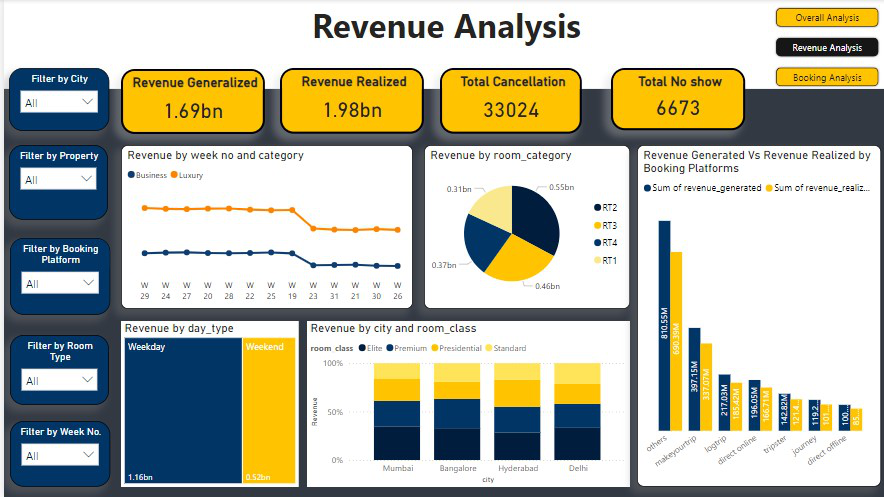

This screenshot's page, from the dashboard's own definition file:
{"tool":"powerbi","page":{"name":"Revenue Analysis","canvas":[1280,720],"ordinal":1},"visuals":[{"type":"textbox","box":[0,0,1279.5,130.1],"z":0},{"type":"card","title":"Revenue Generalized","fields":{"Values":["BaseMeasures.Revenue"]},"box":[169.2,101.2,208.2,94],"z":1000},{"type":"card","title":"Total Cancellation","fields":{"Values":["BaseMeasures.Total Cancelled Booking"]},"box":[630.4,99.8,205.3,95.4],"z":2000},{"type":"slicer","title":"Filter by Booking Platform","fields":{"Values":["fact_bookings.booking_platform"]},"box":[8.6,345.8,144.6,110.7],"z":2000,"group":"g1"},{"type":"card","title":"Total No show","fields":{"Values":["BaseMeasures.Total no show bookings"]},"box":[877.6,99.8,193.7,89.6],"z":3000},{"type":"group","id":"g1","title":"Group 1","box":[7.2,99.8,146,605.8],"z":4000},{"type":"slicer","title":"Filter by Room Type","fields":{"Values":["dim_rooms.room_class"]},"box":[8.6,485.7,143.1,101.5],"z":4000,"group":"g1"},{"type":"pieChart","fields":{"Category":["fact_bookings.room_category"],"Y":["BaseMeasures.Revenue"]},"box":[607.2,211.1,297.8,237.1],"z":5000},{"type":"hundredPercentStackedColumnChart","fields":{"Category":["dim_hotels.city"],"Y":["BaseMeasures.Revenue"],"Series":["dim_rooms.room_class"]},"box":[438.1,465.5,467,240],"z":6000},{"type":"slicer","title":"Filter by Week No.","fields":{"Values":["dim_date.week no"]},"box":[8.6,610.3,144.6,95.3],"z":6000,"group":"g1"},{"type":"clusteredColumnChart","title":"Revenue Generated  Vs Revenue Realized by Booking Platforms","fields":{"Category":["fact_bookings.booking_platform"],"Y":["Sum(fact_bookings.revenue_generated)","Sum(fact_bookings.revenue_realized)"]},"box":[915.2,211.1,352.8,494.5],"z":7000},{"type":"slicer","title":"Filter by City","fields":{"Values":["dim_hotels.city"]},"box":[7.2,99.8,144.6,90.7],"z":8000,"group":"g1"},{"type":"lineChart","fields":{"Y":["BaseMeasures.Revenue"],"Category":["dim_date.week no"],"Series":["dim_hotels.category"]},"box":[169.2,211.1,422.2,237.1],"z":8000},{"type":"treemap","fields":{"Values":["BaseMeasures.Revenue"],"Group":["dim_date.day_type"]},"box":[169.2,465.5,257.3,240],"z":9000},{"type":"card","title":"Revenue Realized","fields":{"Values":["Sum(fact_bookings.revenue_generated)"]},"box":[399,99.8,208.2,95.4],"z":10000},{"type":"slicer","title":"Filter by Property ","fields":{"Values":["dim_hotels.property_name"]},"box":[7.2,210.5,143.1,107.6],"z":10000,"group":"g1"},{"type":"pageNavigator","box":[1113.3,10.1,154.7,120],"z":11000}]}

Visuals, with their boxes in screenshot pixels (x1, y1, x2, y2), scaled from the page's 1280x720 canvas onto the 884x497 screenshot:
textbox: [left=0, top=0, right=883, bottom=90]
"Revenue Generalized" card: [left=117, top=70, right=261, bottom=135]
"Total Cancellation" card: [left=435, top=69, right=577, bottom=135]
"Filter by Booking Platform" slicer: [left=6, top=239, right=106, bottom=315]
"Total No show" card: [left=606, top=69, right=740, bottom=131]
"Group 1" group: [left=5, top=69, right=106, bottom=487]
"Filter by Room Type" slicer: [left=6, top=335, right=105, bottom=405]
pieChart - fact_bookings.room_category x BaseMeasures.Revenue: [left=419, top=146, right=625, bottom=309]
hundredPercentStackedColumnChart - dim_hotels.city x BaseMeasures.Revenue: [left=303, top=321, right=625, bottom=487]
"Filter by Week No." slicer: [left=6, top=421, right=106, bottom=487]
"Revenue Generated  Vs Revenue Realized by Booking Platforms" clusteredColumnChart: [left=632, top=146, right=876, bottom=487]
"Filter by City" slicer: [left=5, top=69, right=105, bottom=131]
lineChart - BaseMeasures.Revenue x dim_date.week no: [left=117, top=146, right=408, bottom=309]
treemap - BaseMeasures.Revenue x dim_date.day_type: [left=117, top=321, right=295, bottom=487]
"Revenue Realized" card: [left=276, top=69, right=419, bottom=135]
"Filter by Property " slicer: [left=5, top=145, right=104, bottom=220]
pageNavigator: [left=769, top=7, right=876, bottom=90]
